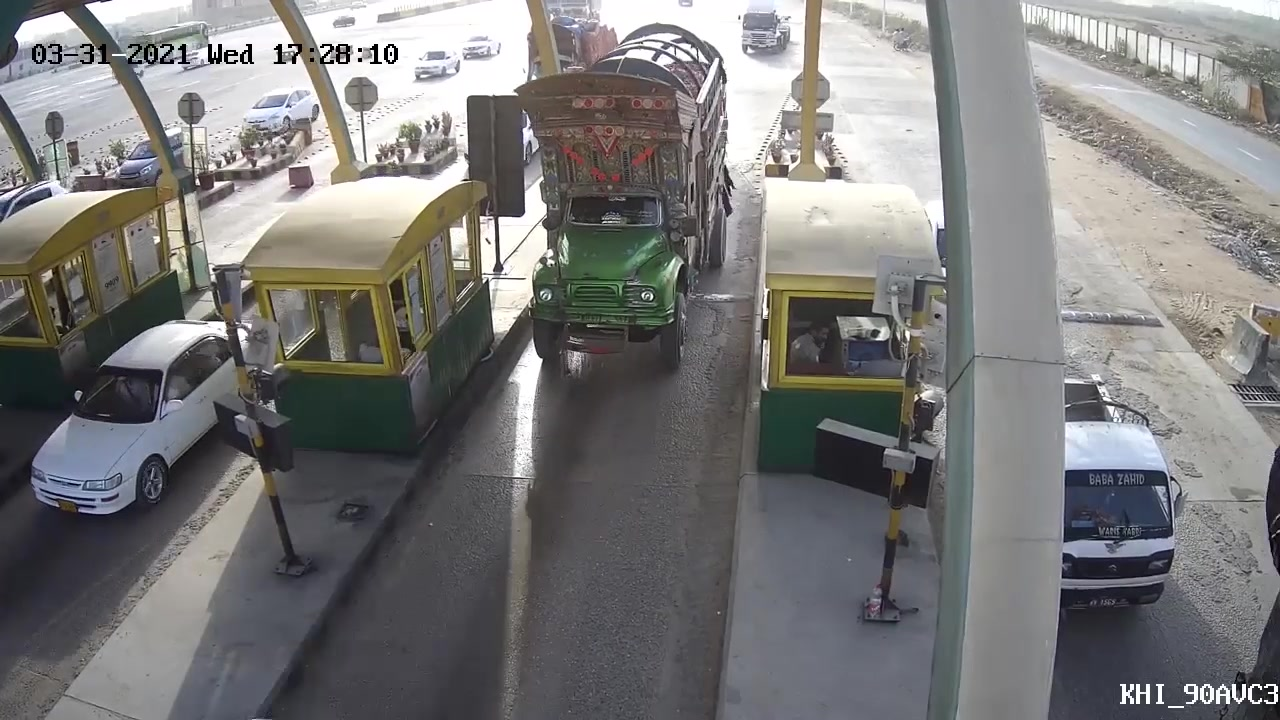F5: (492, 31, 741, 377)
